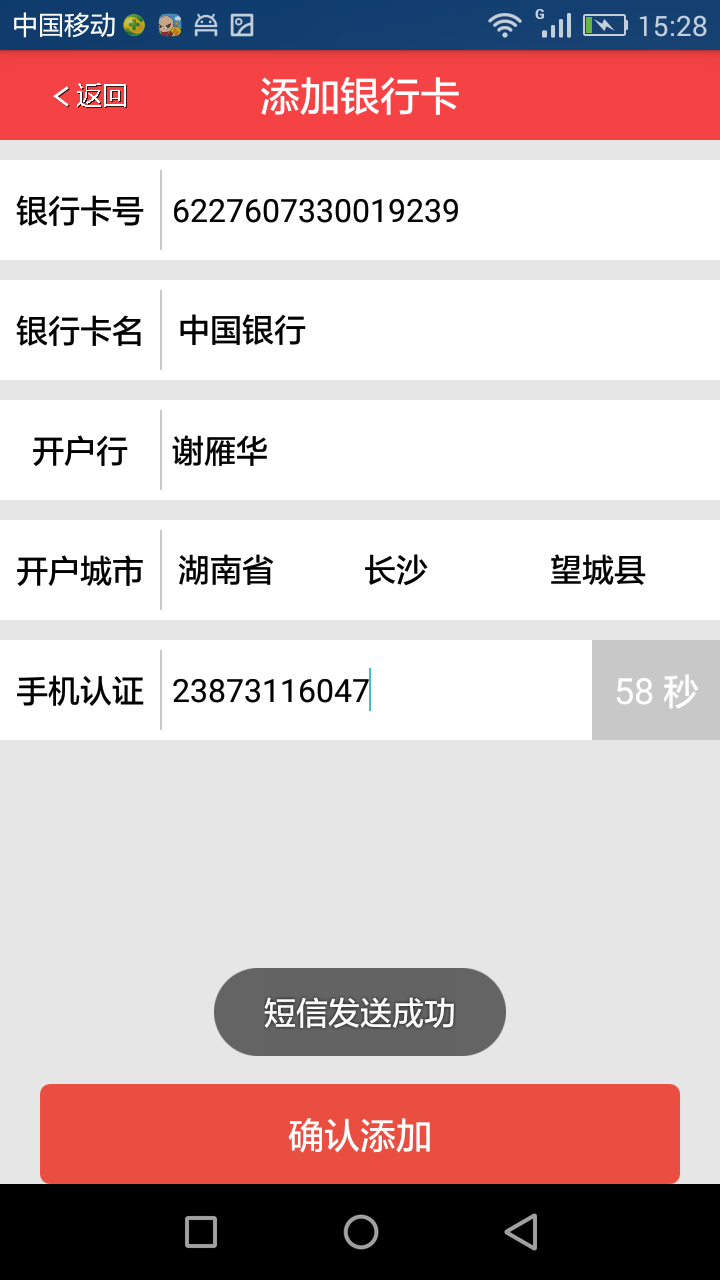alert: (208, 961, 510, 1060)
